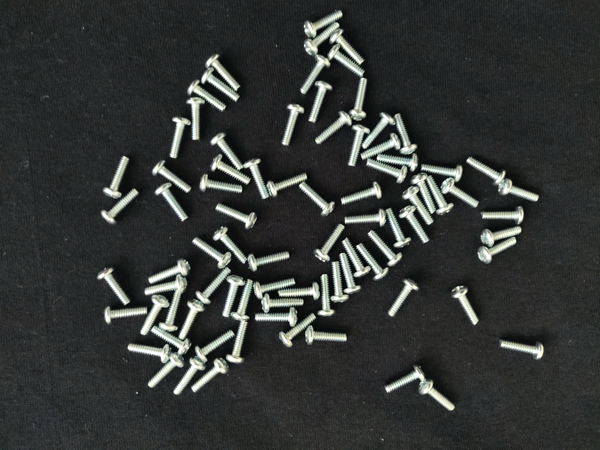shortscrew: (147, 351, 186, 389), (174, 353, 207, 397), (102, 188, 140, 225), (154, 182, 189, 222), (205, 53, 241, 91), (196, 268, 232, 306), (96, 267, 131, 306), (201, 67, 240, 101), (191, 359, 230, 393), (278, 314, 317, 348), (152, 160, 192, 193), (368, 231, 403, 268), (213, 227, 247, 265), (314, 112, 353, 145), (187, 79, 226, 112), (403, 185, 434, 226), (300, 182, 335, 218), (362, 112, 396, 149), (328, 44, 365, 78), (330, 28, 364, 65), (441, 176, 480, 208), (388, 278, 419, 318), (211, 154, 251, 185), (102, 156, 130, 200), (140, 294, 170, 335), (211, 133, 244, 170), (356, 244, 389, 281), (314, 225, 346, 263), (466, 157, 506, 187), (419, 379, 456, 411), (193, 237, 231, 268), (217, 202, 259, 230), (302, 54, 331, 94), (304, 24, 341, 55), (384, 366, 426, 393), (452, 286, 479, 328), (478, 237, 518, 265), (343, 239, 371, 279), (309, 80, 335, 123), (148, 258, 191, 284), (428, 176, 455, 217), (400, 206, 429, 244), (361, 134, 401, 161), (222, 275, 247, 318), (410, 172, 436, 213), (304, 10, 343, 37), (498, 178, 540, 203), (158, 291, 183, 333), (178, 300, 204, 340), (103, 302, 148, 325), (281, 103, 305, 146), (267, 173, 308, 198), (244, 159, 269, 200), (394, 113, 418, 155), (501, 338, 546, 360), (246, 250, 291, 272), (226, 322, 249, 365), (253, 277, 296, 300), (348, 125, 371, 167), (366, 161, 408, 184), (421, 161, 464, 183), (169, 116, 191, 159), (145, 275, 188, 297), (340, 253, 362, 295), (388, 208, 411, 248), (200, 174, 243, 195), (342, 183, 383, 205), (232, 280, 254, 321), (127, 343, 172, 363), (482, 226, 522, 248), (349, 78, 369, 121), (186, 97, 206, 140), (262, 293, 305, 313), (255, 308, 299, 327), (482, 207, 525, 226), (344, 208, 387, 227), (377, 155, 419, 174), (305, 327, 347, 346), (278, 282, 321, 300), (331, 262, 349, 303), (318, 275, 333, 318)
